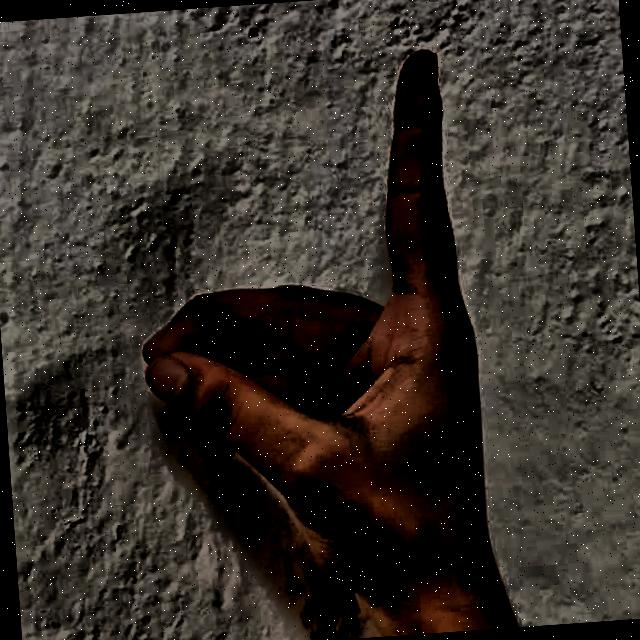Dha: (71, 16, 537, 640)
